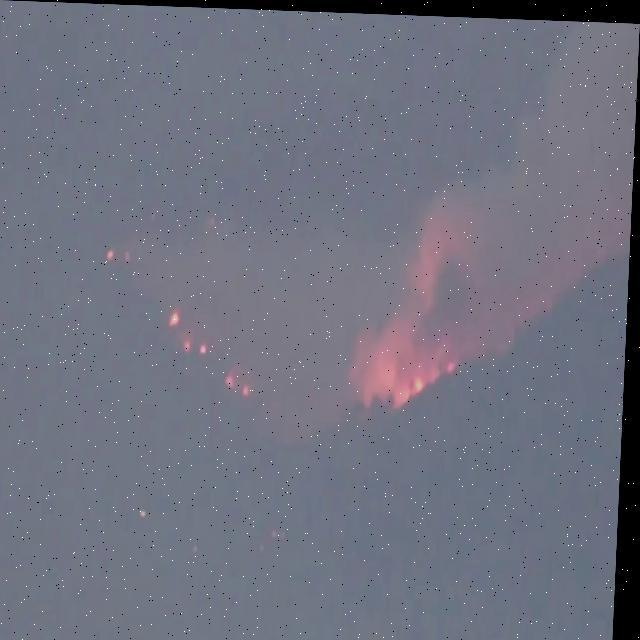Fire: (348, 314, 460, 410), (169, 308, 183, 328)
